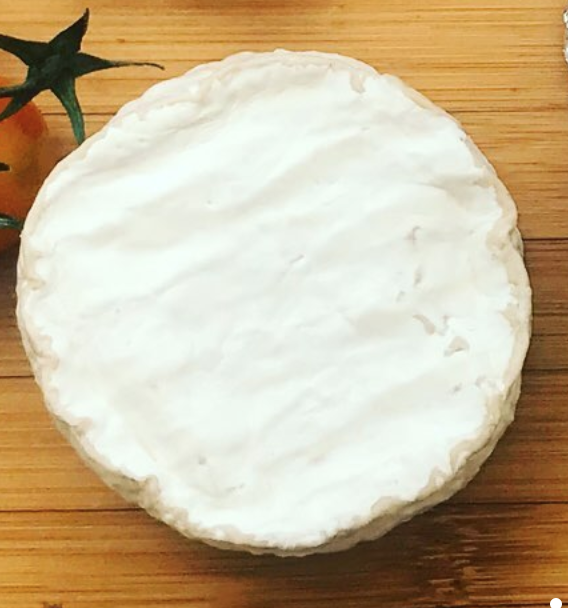camembert: (13, 47, 541, 560)
